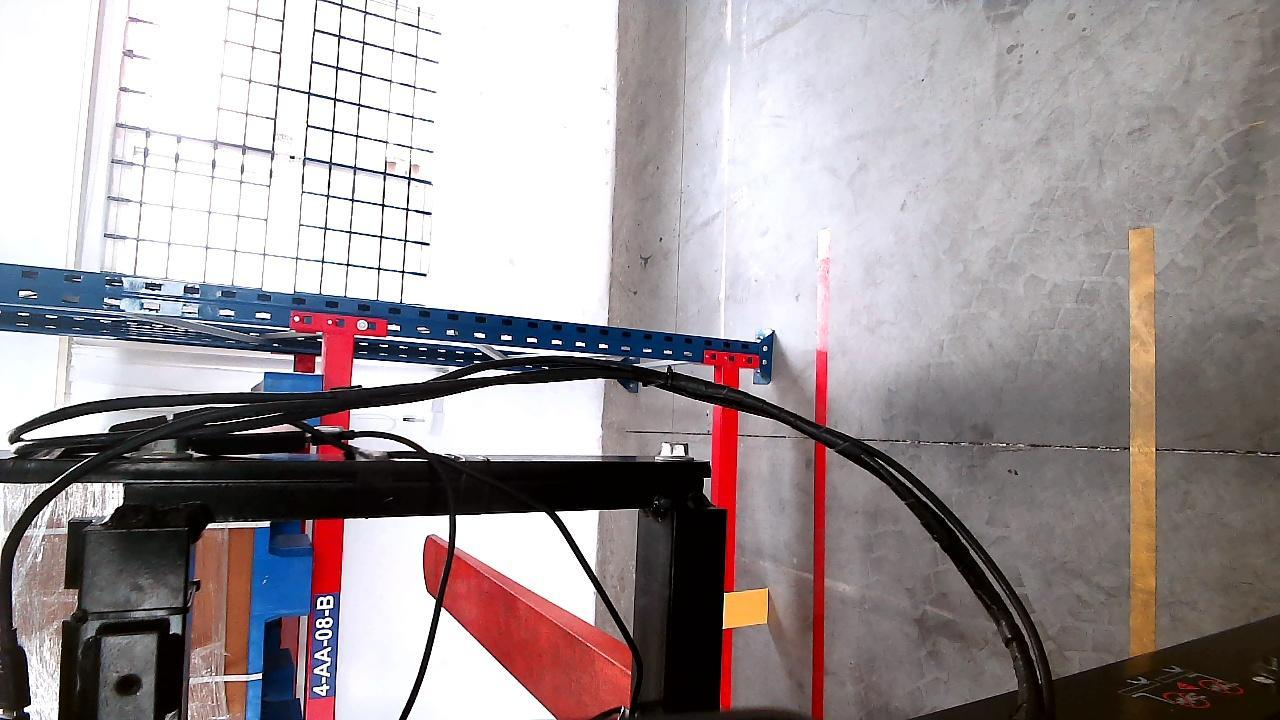red_line: (810, 229, 831, 720)
yellow_line: (1129, 224, 1160, 656)
